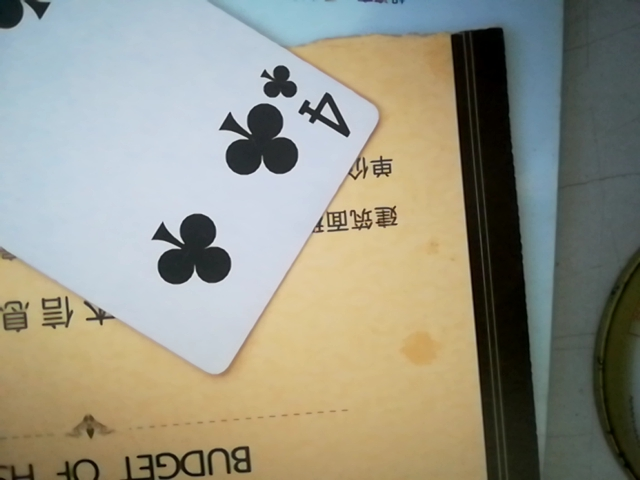mh 4: (0, 0, 390, 376)
